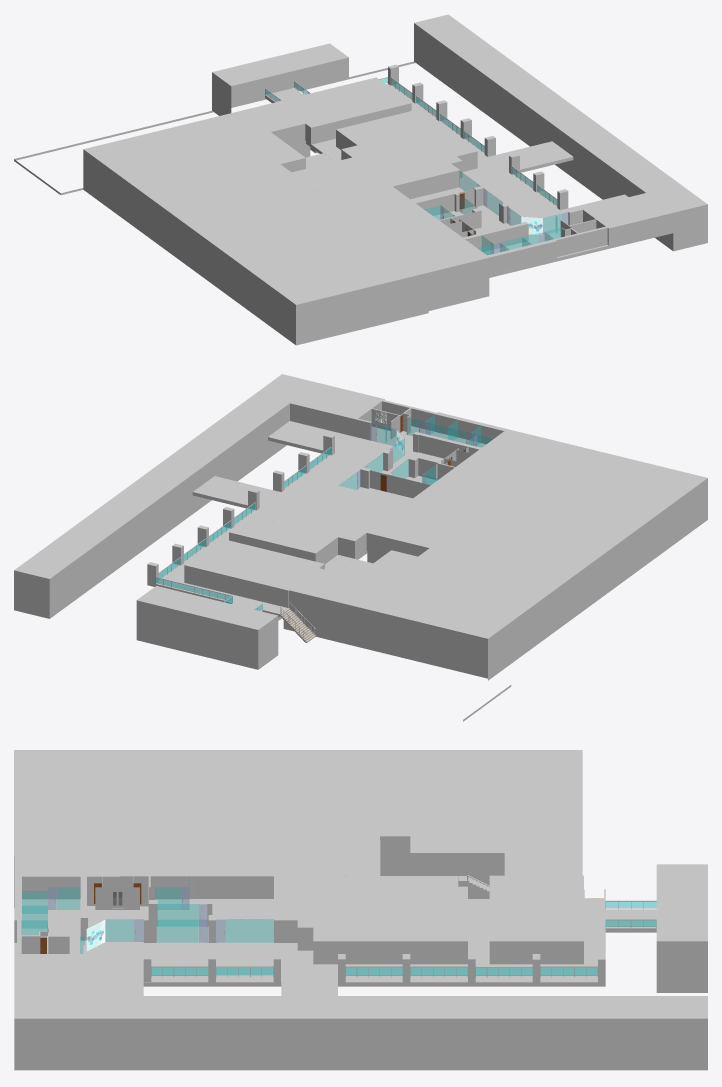
Rendered from medidasmetros-v2.glb.
The picture shows the model from 3 angles, top to bottom: view 1: azimuth 30°, elevation 25°; view 2: azimuth 150°, elevation 25°; view 3: azimuth 270°, elevation 25°; orthographic projection. The views are drawn at different scales.
Visible parts, largest first — view 1: Geom3D; view 2: Geom3D; view 3: Geom3D (×9).
Part boxes in pixels (x1=…): Geom3D: x1=14, y1=14, x2=707, y2=345; Geom3D: x1=14, y1=374, x2=707, y2=721; Geom3D (×9): x1=14, y1=750, x2=707, y2=1070.
Bounding box in the file's own units: 62.55 × 5.59 × 64.72.
Materials: 38 (9 with a texture image).
